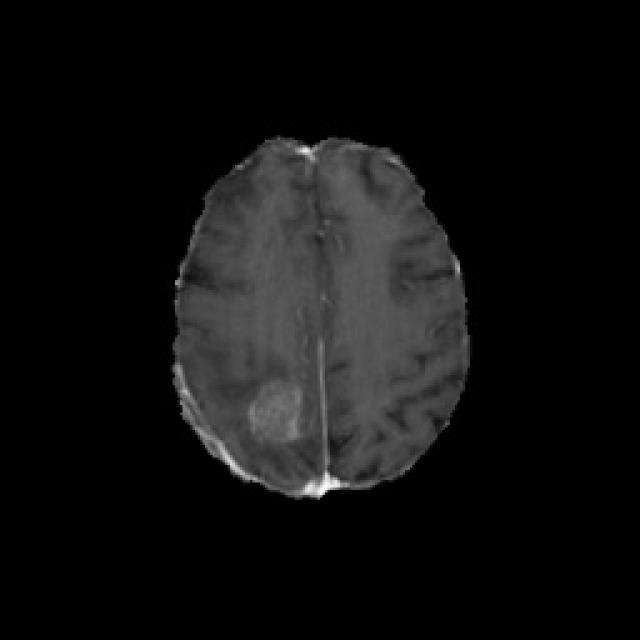negative: (246, 380, 304, 445)
